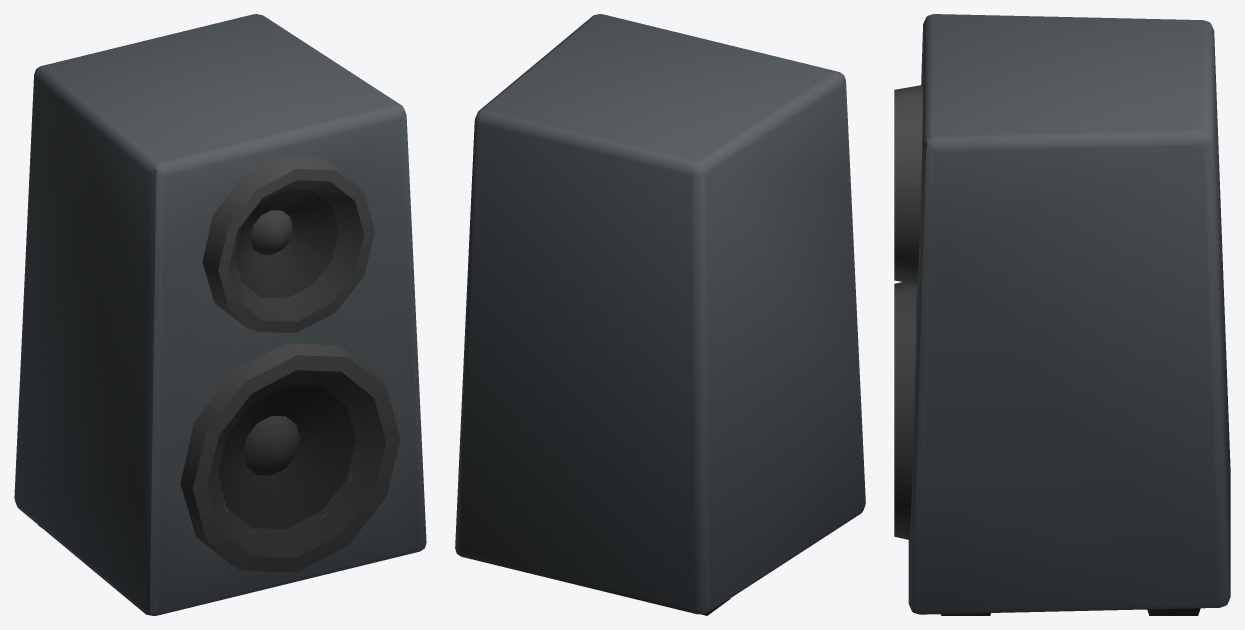
The model's file is GothGirl_Speaker.obj.
3 views of the same model, side by side, from view 1: azimuth 30°, elevation 25°; view 2: azimuth 150°, elevation 25°; view 3: azimuth 270°, elevation 25° (orthographic). The views are drawn at different scales.
Visible parts, largest first — view 1: GothGirl_Speaker; view 2: GothGirl_Speaker; view 3: GothGirl_Speaker.
Boxes of the visible parts, x1,y1,x2,y2 form: GothGirl_Speaker: (14,14,426,615); GothGirl_Speaker: (455,14,865,615); GothGirl_Speaker: (894,14,1230,615).
Bounding box in the file's own units: 0.6471 × 1 × 0.6334.
1 material, 1 textured.
